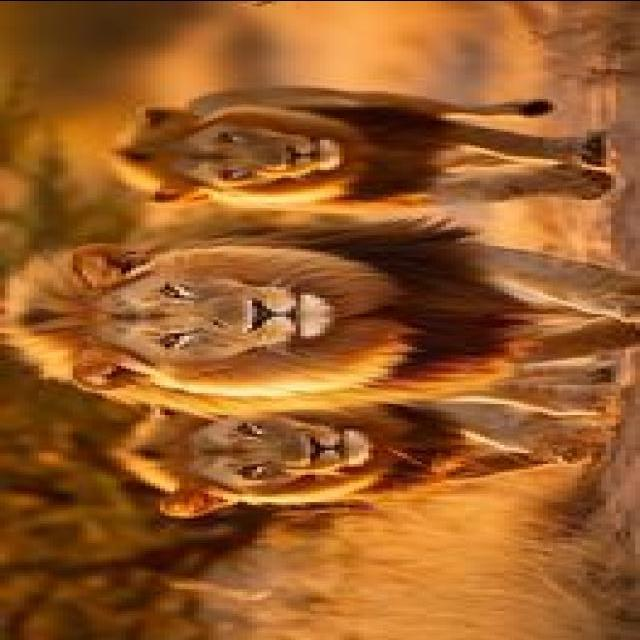lions: (0, 12, 640, 601)
